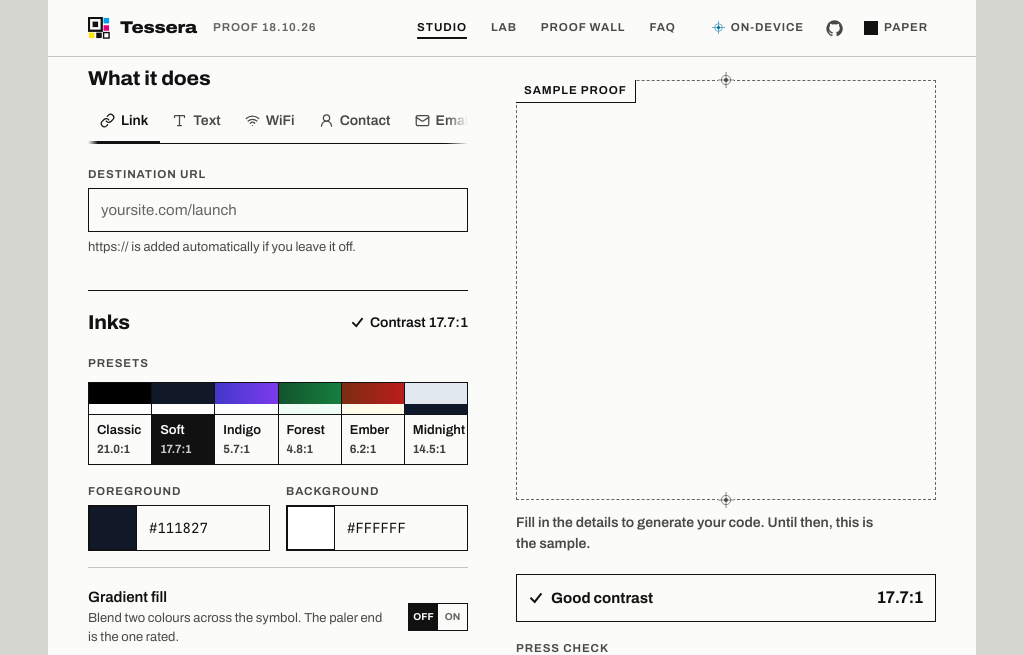
Test: App › applies a preset to the design controls
(page scrolled)
Click the button "Classic 21.0:1" at (121, 424), box [89, 383, 152, 465]
(page scrolled)
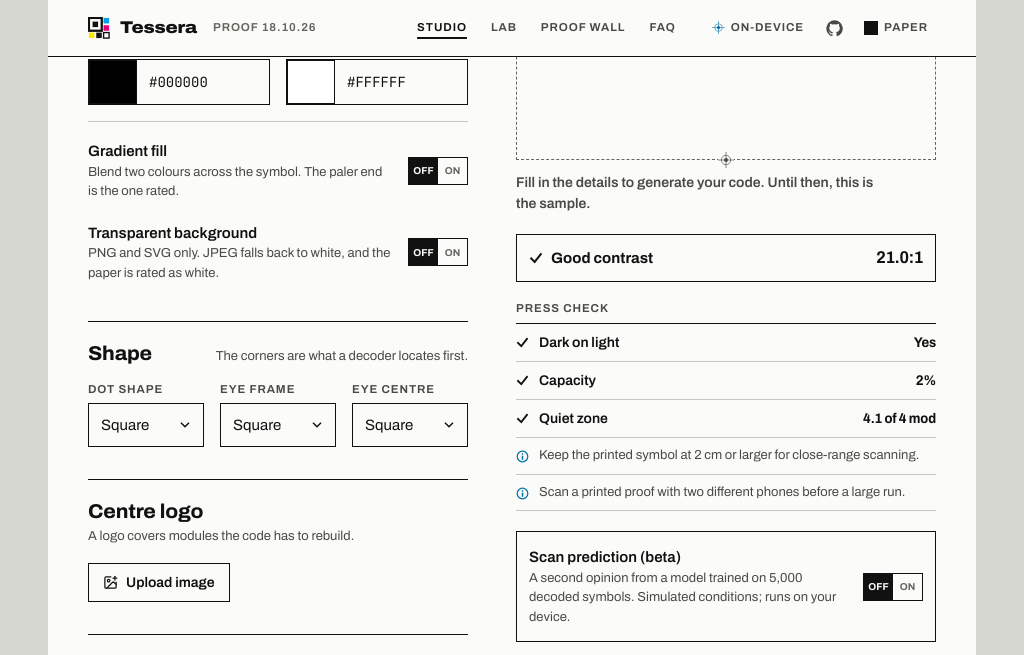
Result: the field named "foreground hex value" holds "#000000" at [137, 60, 269, 104]
Result: the dropdown labelled "Dot shape" shows "Square" at [88, 402, 204, 447]
